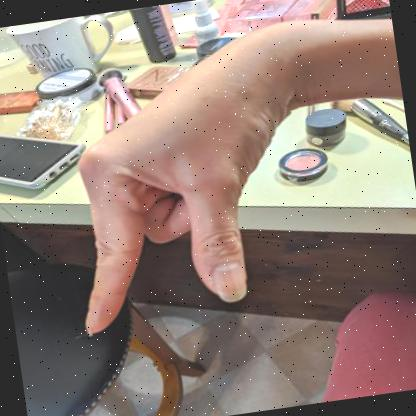Q: (77, 20, 299, 336)
